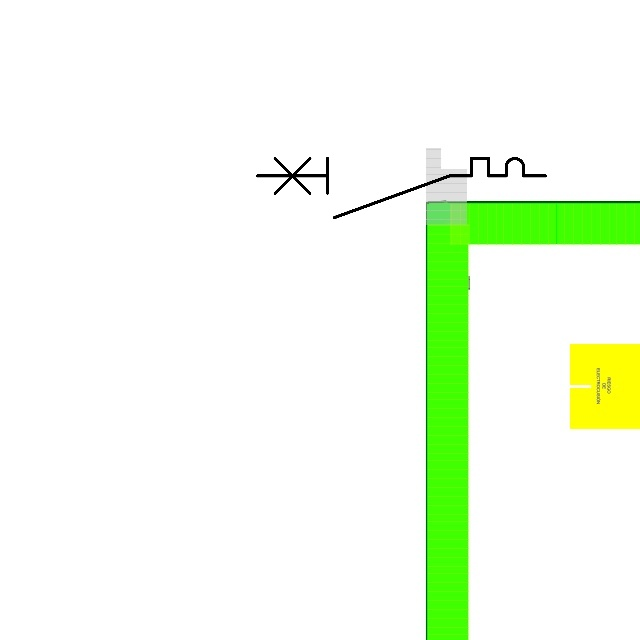interruptor_termomagnetico: (250, 151, 553, 225)
